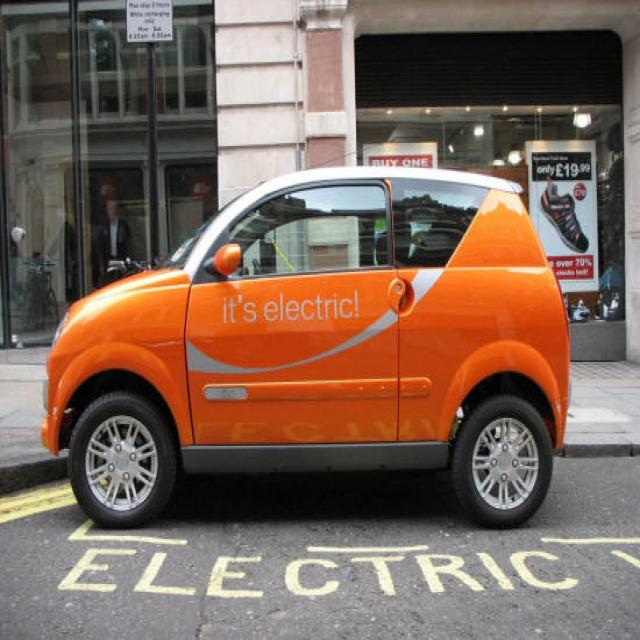Car: (39, 160, 577, 532)
